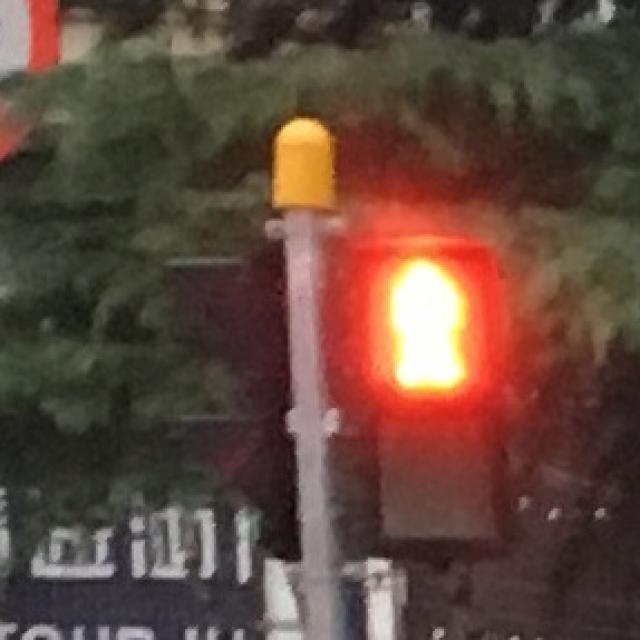red-crossing: (371, 260, 476, 396)
